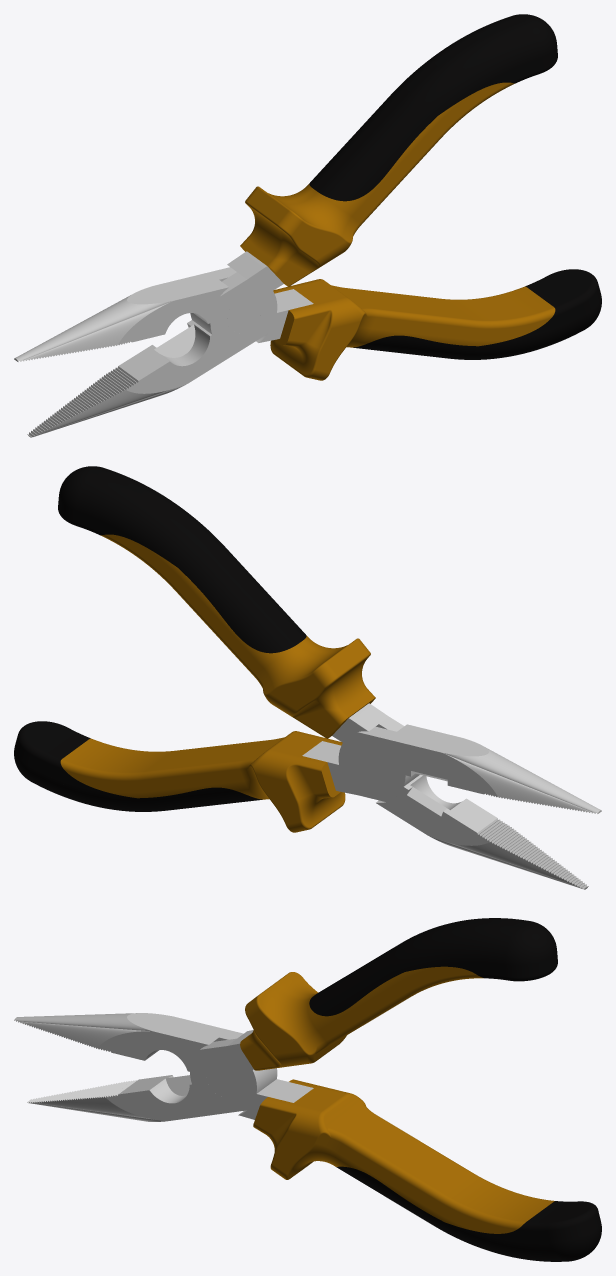
Rendered from Long Nose Pliers open 20 degrees.obj.
3 views of the same model, one above another, from view 1: azimuth 30°, elevation 25°; view 2: azimuth 150°, elevation 25°; view 3: azimuth 330°, elevation 25° (orthographic).
Visible parts, largest first — view 1: Long_Nose_Pliers_open_20_degrees; view 2: Long_Nose_Pliers_open_20_degrees; view 3: Long_Nose_Pliers_open_20_degrees.
Boxes of the visible parts, left/top/right/bottom form: Long_Nose_Pliers_open_20_degrees: left=14, top=14, right=601, bottom=437; Long_Nose_Pliers_open_20_degrees: left=14, top=466, right=601, bottom=889; Long_Nose_Pliers_open_20_degrees: left=14, top=918, right=601, bottom=1261.
Bounding box in the file's own units: 156 × 84.66 × 20.
